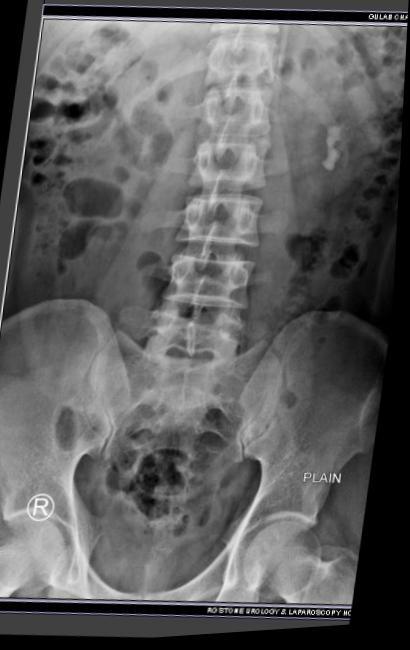bladder: (64, 492, 234, 629)
vertebrae: (191, 64, 277, 129)
